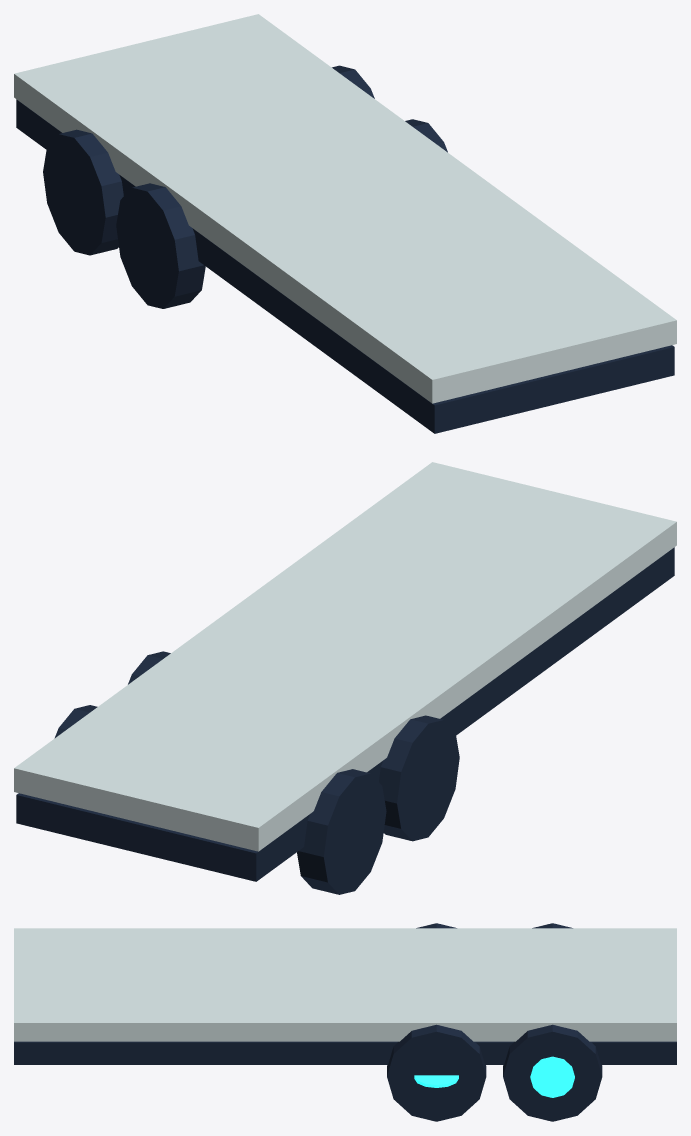
File: PROP_truck-trailer-flatbed_20261005.glb
3 renders of one model, top to bottom at view 1: azimuth 30°, elevation 25°; view 2: azimuth 150°, elevation 25°; view 3: azimuth 270°, elevation 25°, orthographic. The views are drawn at different scales.
Parts seen in each view (by area): view 1: VEH_TrailerDeck, VEH_TrailerChassis, VEH_Wheel.033, VEH_Wheel.032; view 2: VEH_TrailerDeck, VEH_TrailerChassis, VEH_Wheel.032, VEH_Wheel.033; view 3: VEH_TrailerDeck, VEH_TrailerChassis, VEH_Wheel.035, VEH_Wheel.034, VEH_Hub.034, VEH_Hub.035.
Boxes of the visible parts, x1=… form: VEH_TrailerDeck: x1=14, y1=14, x2=676, y2=403; VEH_TrailerChassis: x1=16, y1=99, x2=674, y2=433; VEH_Wheel.033: x1=116, y1=183, x2=205, y2=308; VEH_Wheel.032: x1=43, y1=129, x2=123, y2=255; VEH_TrailerDeck: x1=14, y1=462, x2=676, y2=851; VEH_TrailerChassis: x1=16, y1=547, x2=674, y2=881; VEH_Wheel.032: x1=297, y1=769, x2=386, y2=894; VEH_Wheel.033: x1=379, y1=715, x2=459, y2=841; VEH_TrailerDeck: x1=14, y1=928, x2=676, y2=1041; VEH_TrailerChassis: x1=14, y1=1041, x2=676, y2=1064; VEH_Wheel.035: x1=387, y1=1024, x2=486, y2=1121; VEH_Wheel.034: x1=503, y1=1024, x2=602, y2=1121; VEH_Hub.034: x1=530, y1=1056, x2=574, y2=1097; VEH_Hub.035: x1=414, y1=1075, x2=458, y2=1087.
Bounding box in the file's own units: 3.38 × 1.23 × 8.
